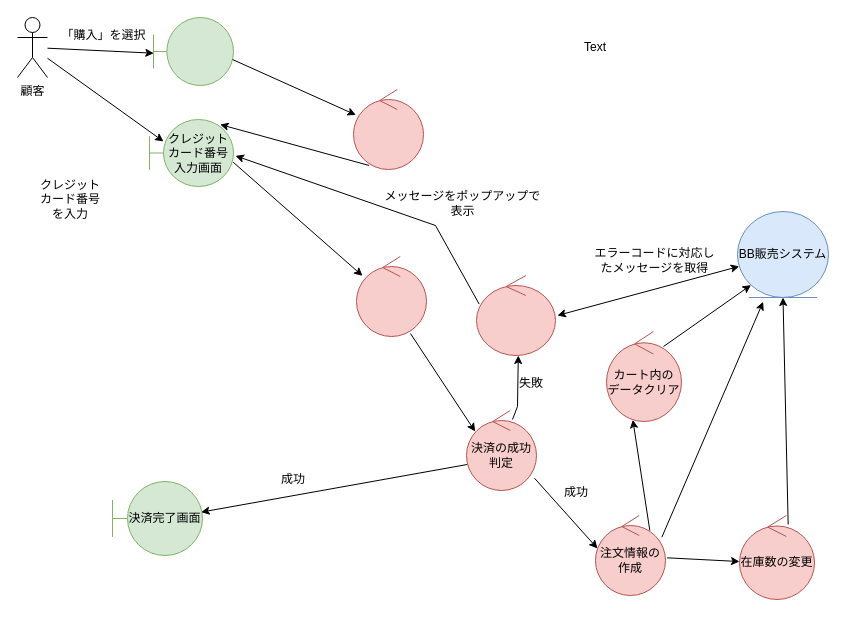
Some shapes in this 846 by 617 pixel diagram are drawn without their labels. The centre of each missing label's shape, as x and y in pixels:
"エラーコードの処理" goes at [516,315].
"カート一覧画面" goes at [193,51].
"ログイン状態の確認" goes at [388,129].
"決済APIに 情報を送信" goes at [391,296].
